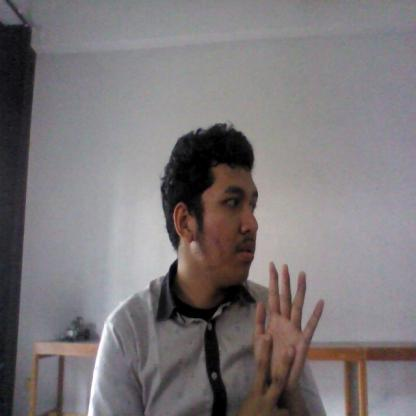N: (235, 249, 326, 416)
